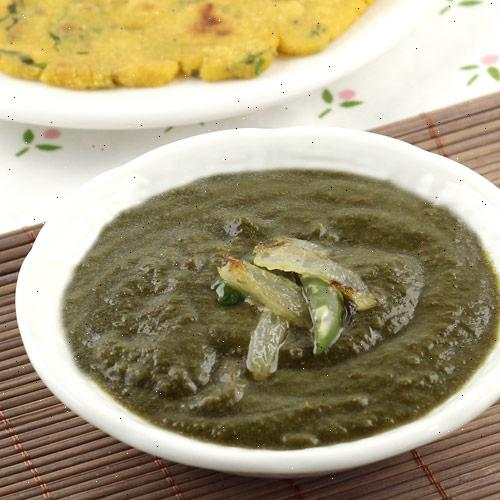saag: (64, 173, 499, 440)
